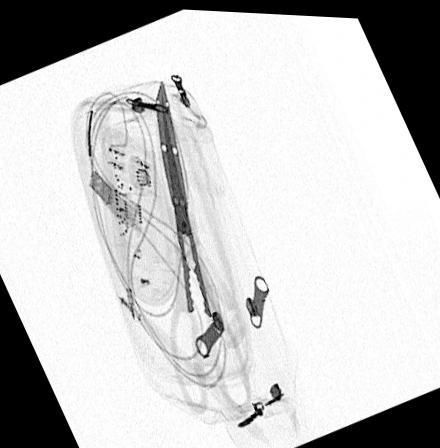Scissors: (149, 70, 255, 417)
